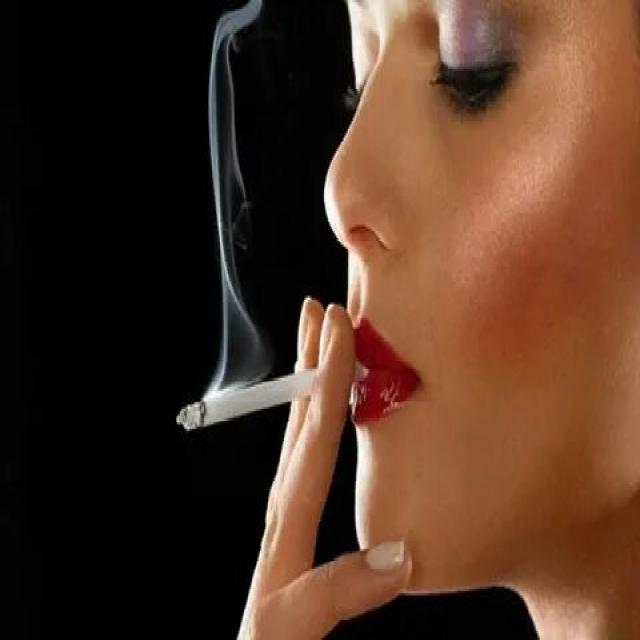cigarette: (175, 356, 322, 436)
